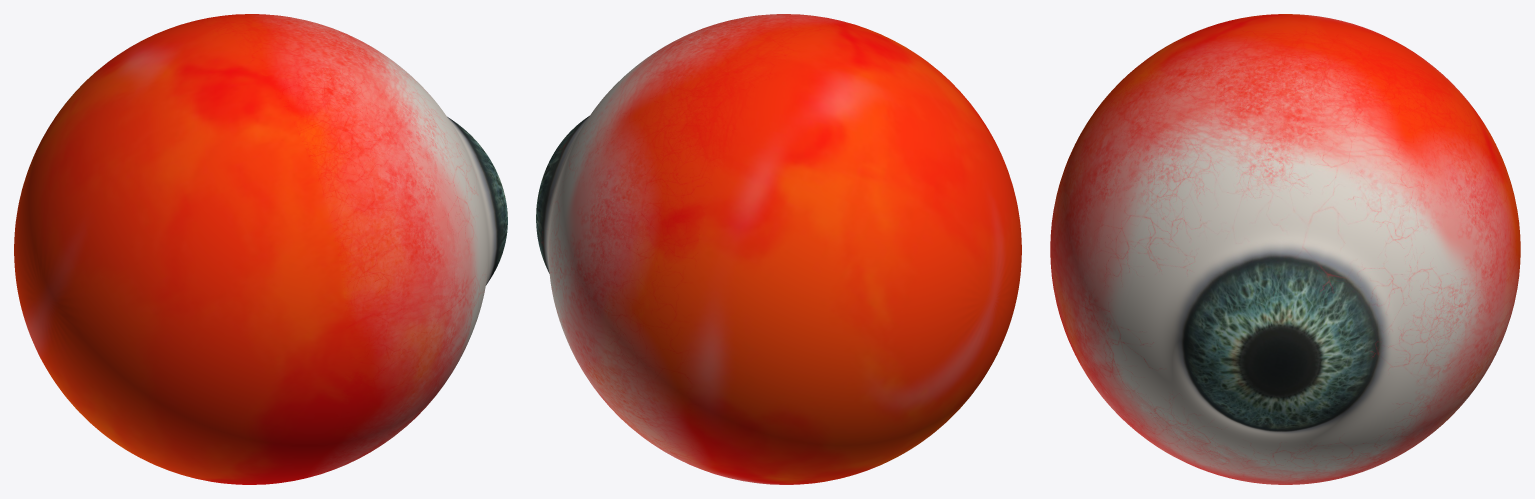
Rendered from ModeloOjoNormal.fbx.
3 views of the same model, side by side, from view 1: azimuth 30°, elevation 25°; view 2: azimuth 150°, elevation 25°; view 3: azimuth 270°, elevation 25° (orthographic).
Parts seen in each view (by area): view 1: CORNEA_.001; view 2: CORNEA_.001; view 3: CORNEA_.001.
Boxes of the visible parts, x1=… form: CORNEA_.001: x1=14, y1=14, x2=507, y2=484; CORNEA_.001: x1=536, y1=14, x2=1021, y2=484; CORNEA_.001: x1=1050, y1=14, x2=1520, y2=484.
Bounding box in the file's own units: 214 × 197 × 197.
